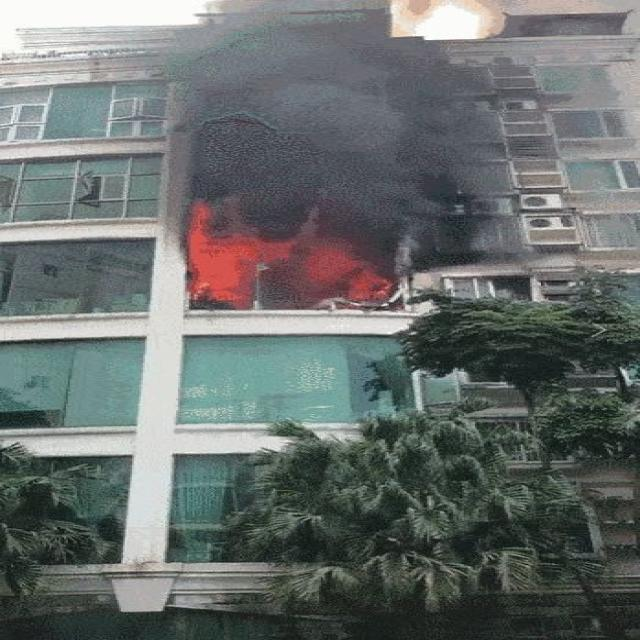Fire: (182, 203, 396, 310)
Smoke: (148, 2, 504, 280)
